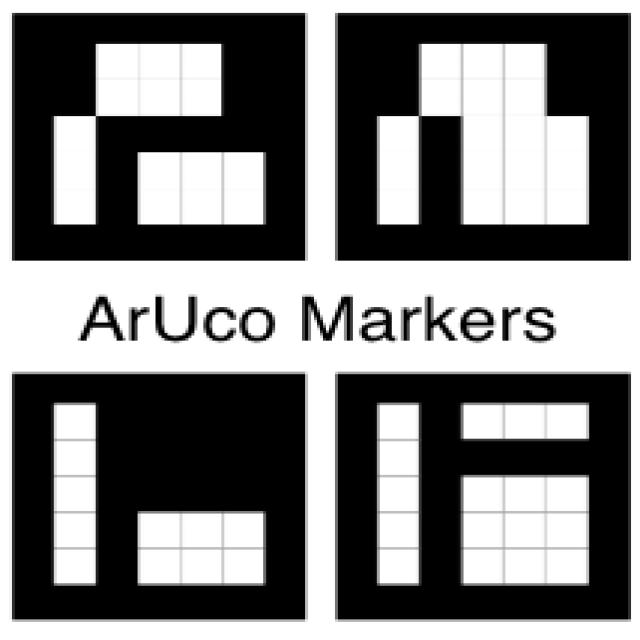aruco: (323, 0, 637, 312), (0, 0, 329, 292), (0, 340, 305, 630), (324, 355, 625, 640)
